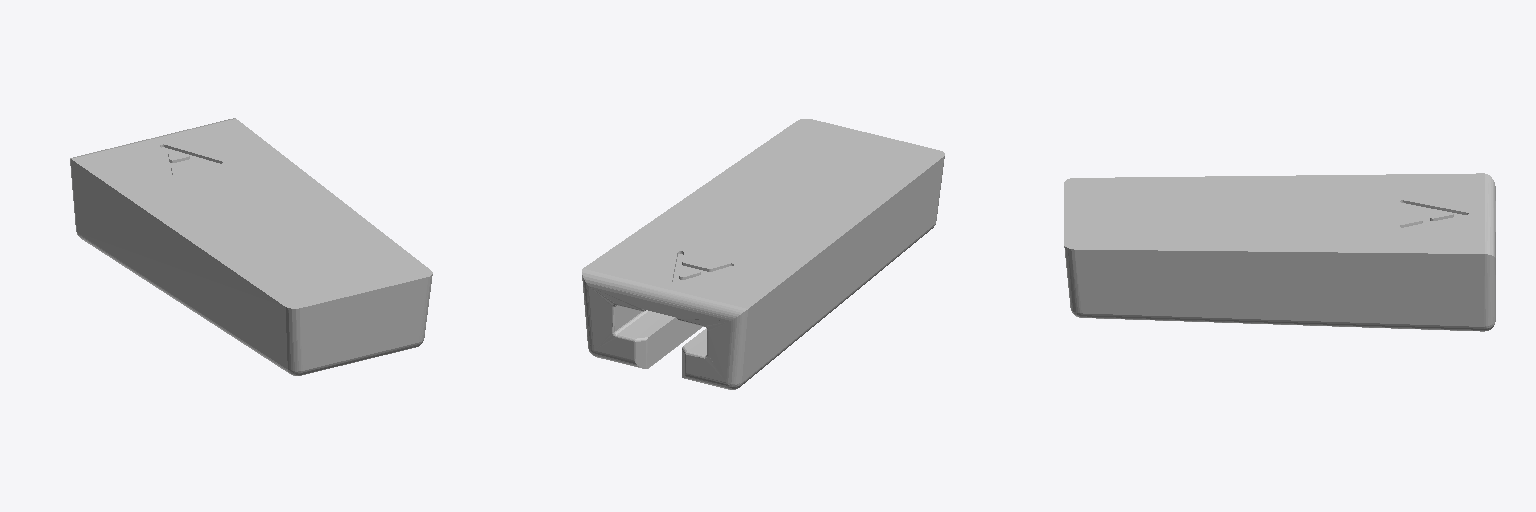
Rendered from right_gripper_l_finger_tip_visuals_mesh_0.obj.
3 views of the same model, side by side, from view 1: azimuth 30°, elevation 25°; view 2: azimuth 150°, elevation 25°; view 3: azimuth 270°, elevation 25° (orthographic).
Size of the model in its own units: 0.0159 by 0.0078 by 0.036.